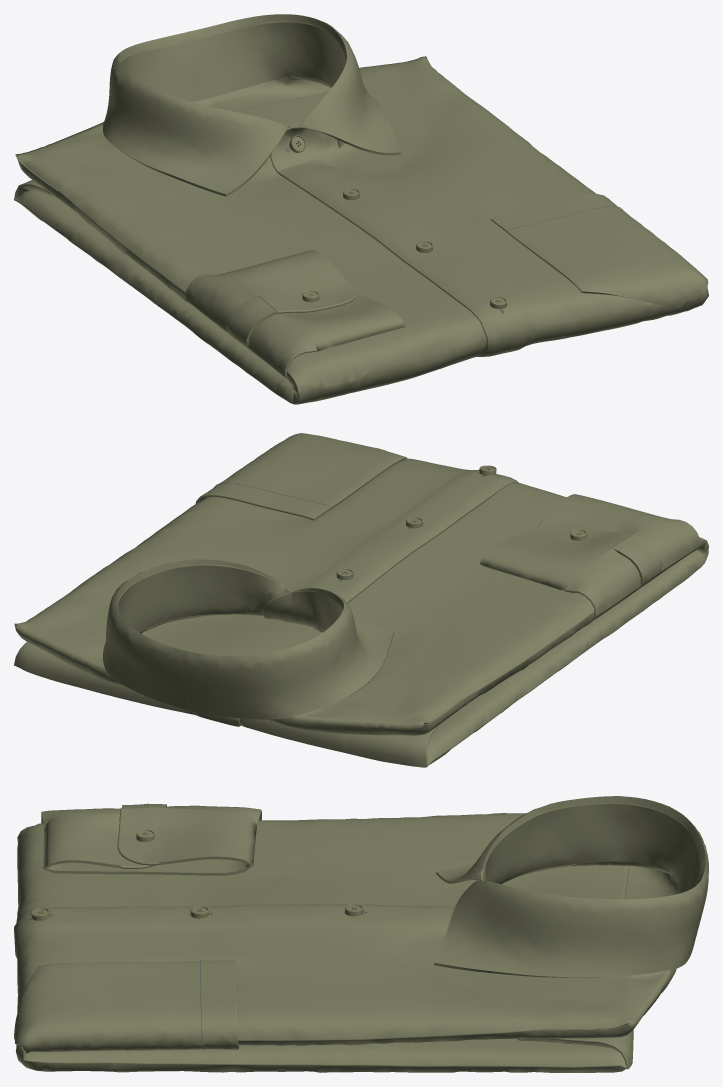
The model's file is folded_shirt_green.glb.
3 renders of one model, top to bottom at view 1: azimuth 30°, elevation 25°; view 2: azimuth 150°, elevation 25°; view 3: azimuth 270°, elevation 25°, orthographic. The views are drawn at different scales.
Parts seen in each view (by area): view 1: Cloth_1; view 2: Cloth_1; view 3: Cloth_1.
Boxes of the visible parts, x1=… form: Cloth_1: x1=14, y1=14, x2=708, y2=404; Cloth_1: x1=14, y1=433, x2=708, y2=767; Cloth_1: x1=14, y1=796, x2=708, y2=1072.
Size of the model in its own units: 0.2825 by 0.0729 by 0.3776.
Materials: 47 (8 with a texture image).
